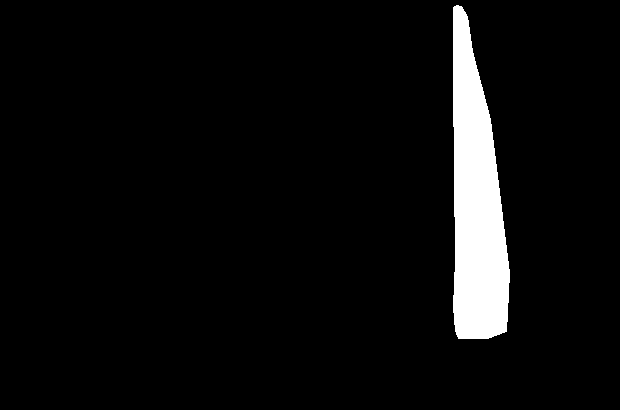type5: (449, 1, 512, 344)
